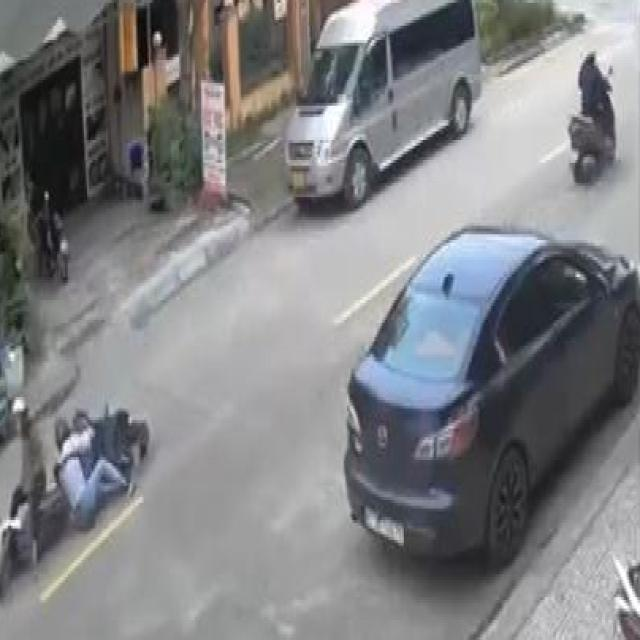accident: (0, 383, 154, 620)
